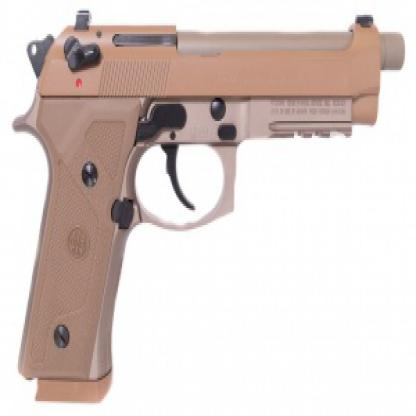Gun: (0, 0, 412, 414)
